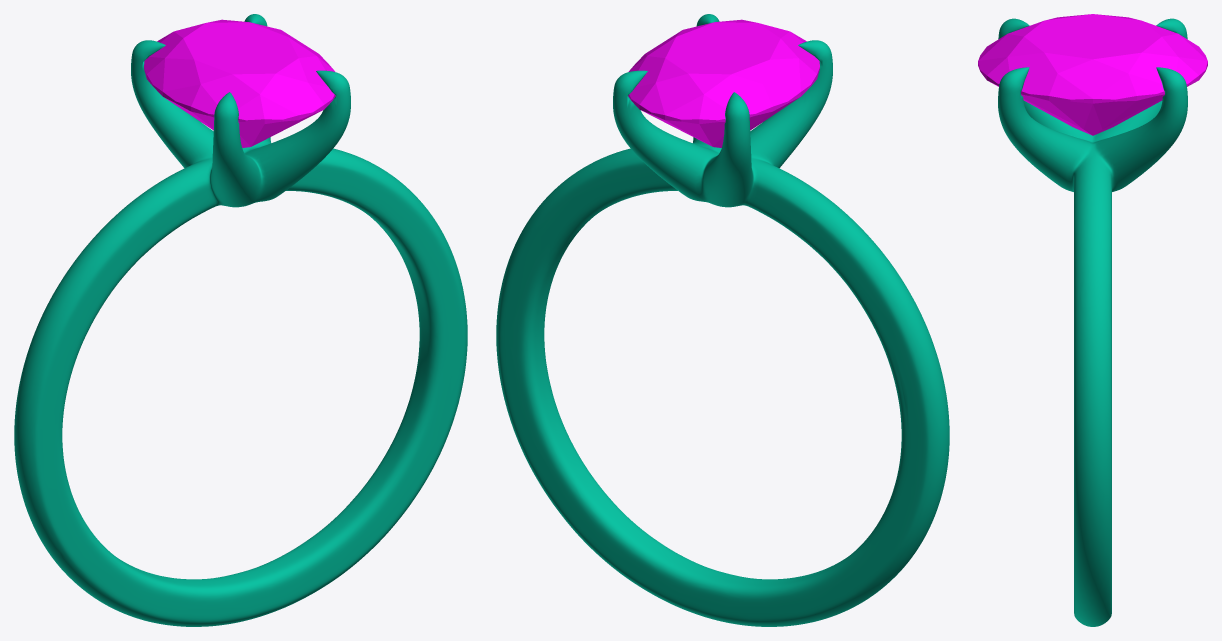
Rendered from BE1FM199_OV_200ct_RENDER.glb.
3 renders of one model, left to right at view 1: azimuth 30°, elevation 25°; view 2: azimuth 150°, elevation 25°; view 3: azimuth 270°, elevation 25°, orthographic.
Parts seen in each view (by area): view 1: Metal 01, CS_Diamond_Oval; view 2: Metal 01, CS_Diamond_Oval; view 3: Metal 01, CS_Diamond_Oval.
Part boxes in pixels (x1=…): Metal 01: x1=14, y1=14, x2=467, y2=626; CS_Diamond_Oval: x1=144, y1=19, x2=335, y2=147; Metal 01: x1=496, y1=14, x2=949, y2=626; CS_Diamond_Oval: x1=628, y1=19, x2=819, y2=147; Metal 01: x1=998, y1=18, x2=1187, y2=626; CS_Diamond_Oval: x1=978, y1=14, x2=1207, y2=135.
Bounding box in the file's own units: 20.09 × 24.48 × 9.
